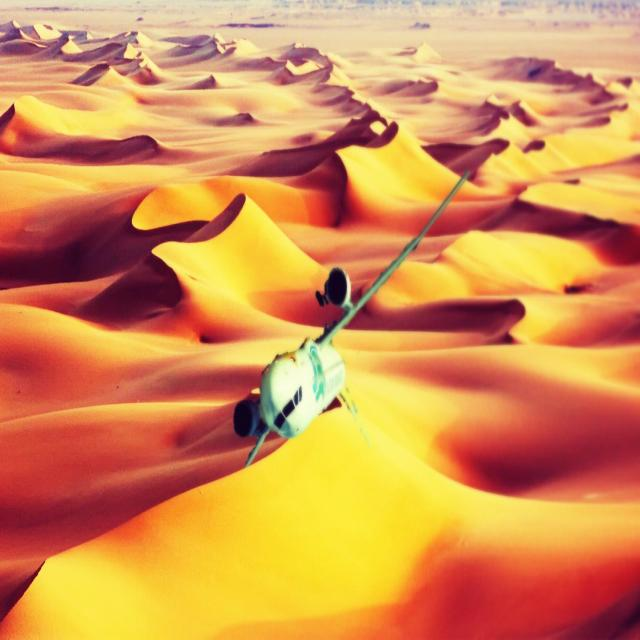airplane: (233, 166, 471, 470)
